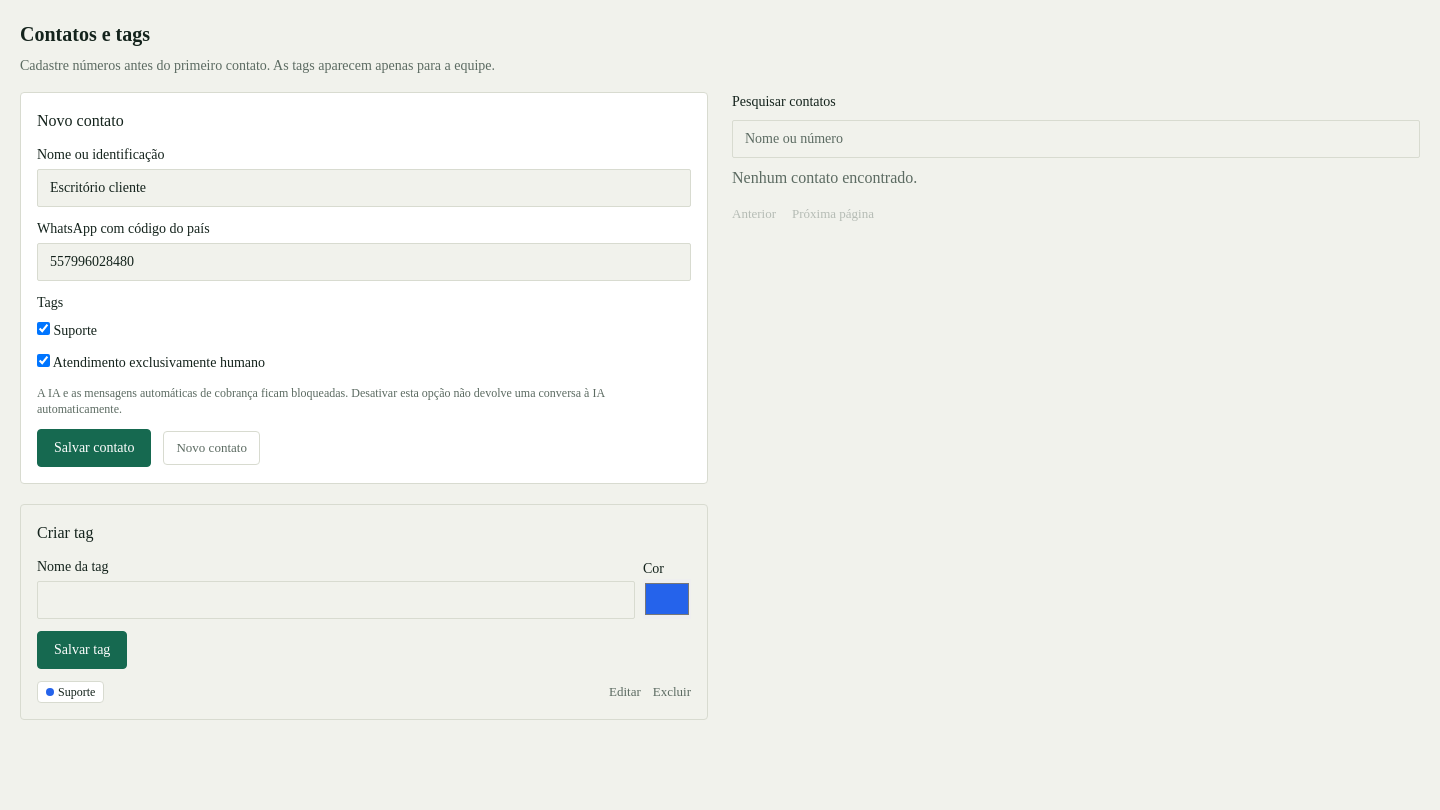
Test: mostra conflito de número sem informar sucesso
Expected: the checkbox labelled "Suporte" is shown, [37,322,50,335]
Click the button "Salvar contato".
click(94, 448)  # box [37,429,152,467]
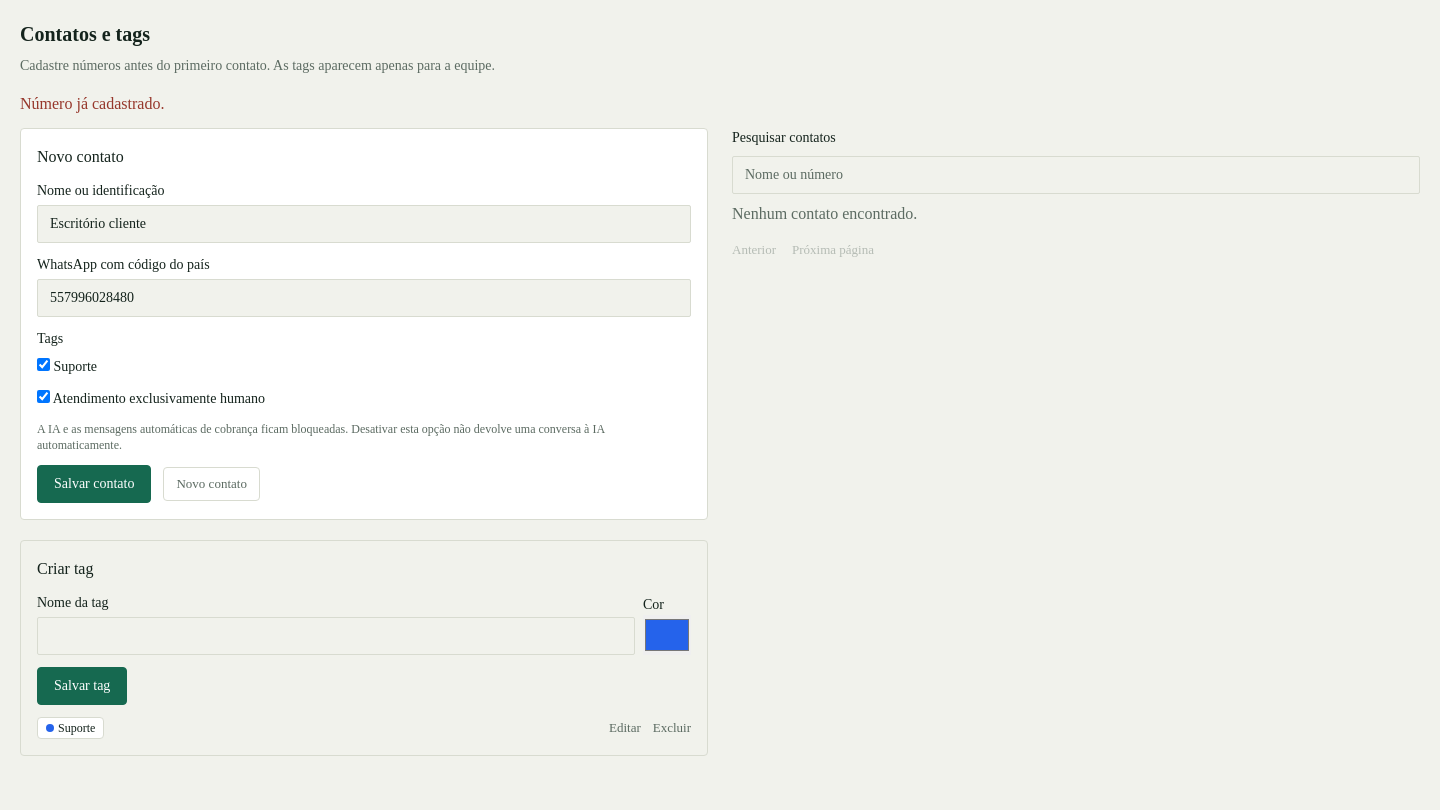
Expected: the message reads "Número já cadastrado.", [20,95,164,112]
